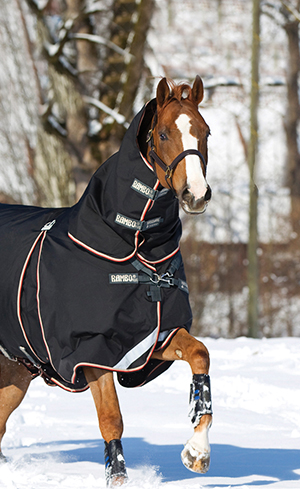Horse: (22, 68, 240, 467)
